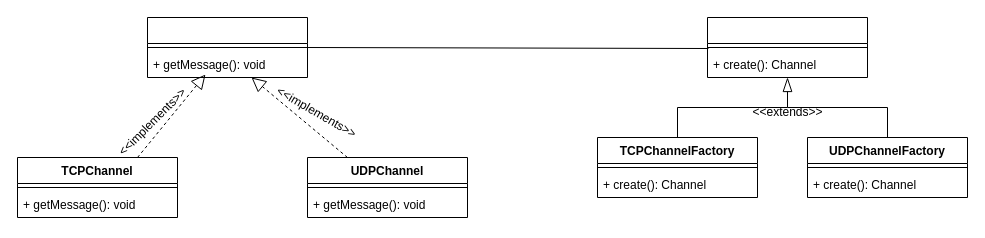
The diagram is 985 pixels wide and 238 high, and some of its shapes have lost their labels. Each missing label, with the box of its shape:
Channel: (146, 16, 308, 78)
ChannelFactory: (706, 16, 868, 78)
